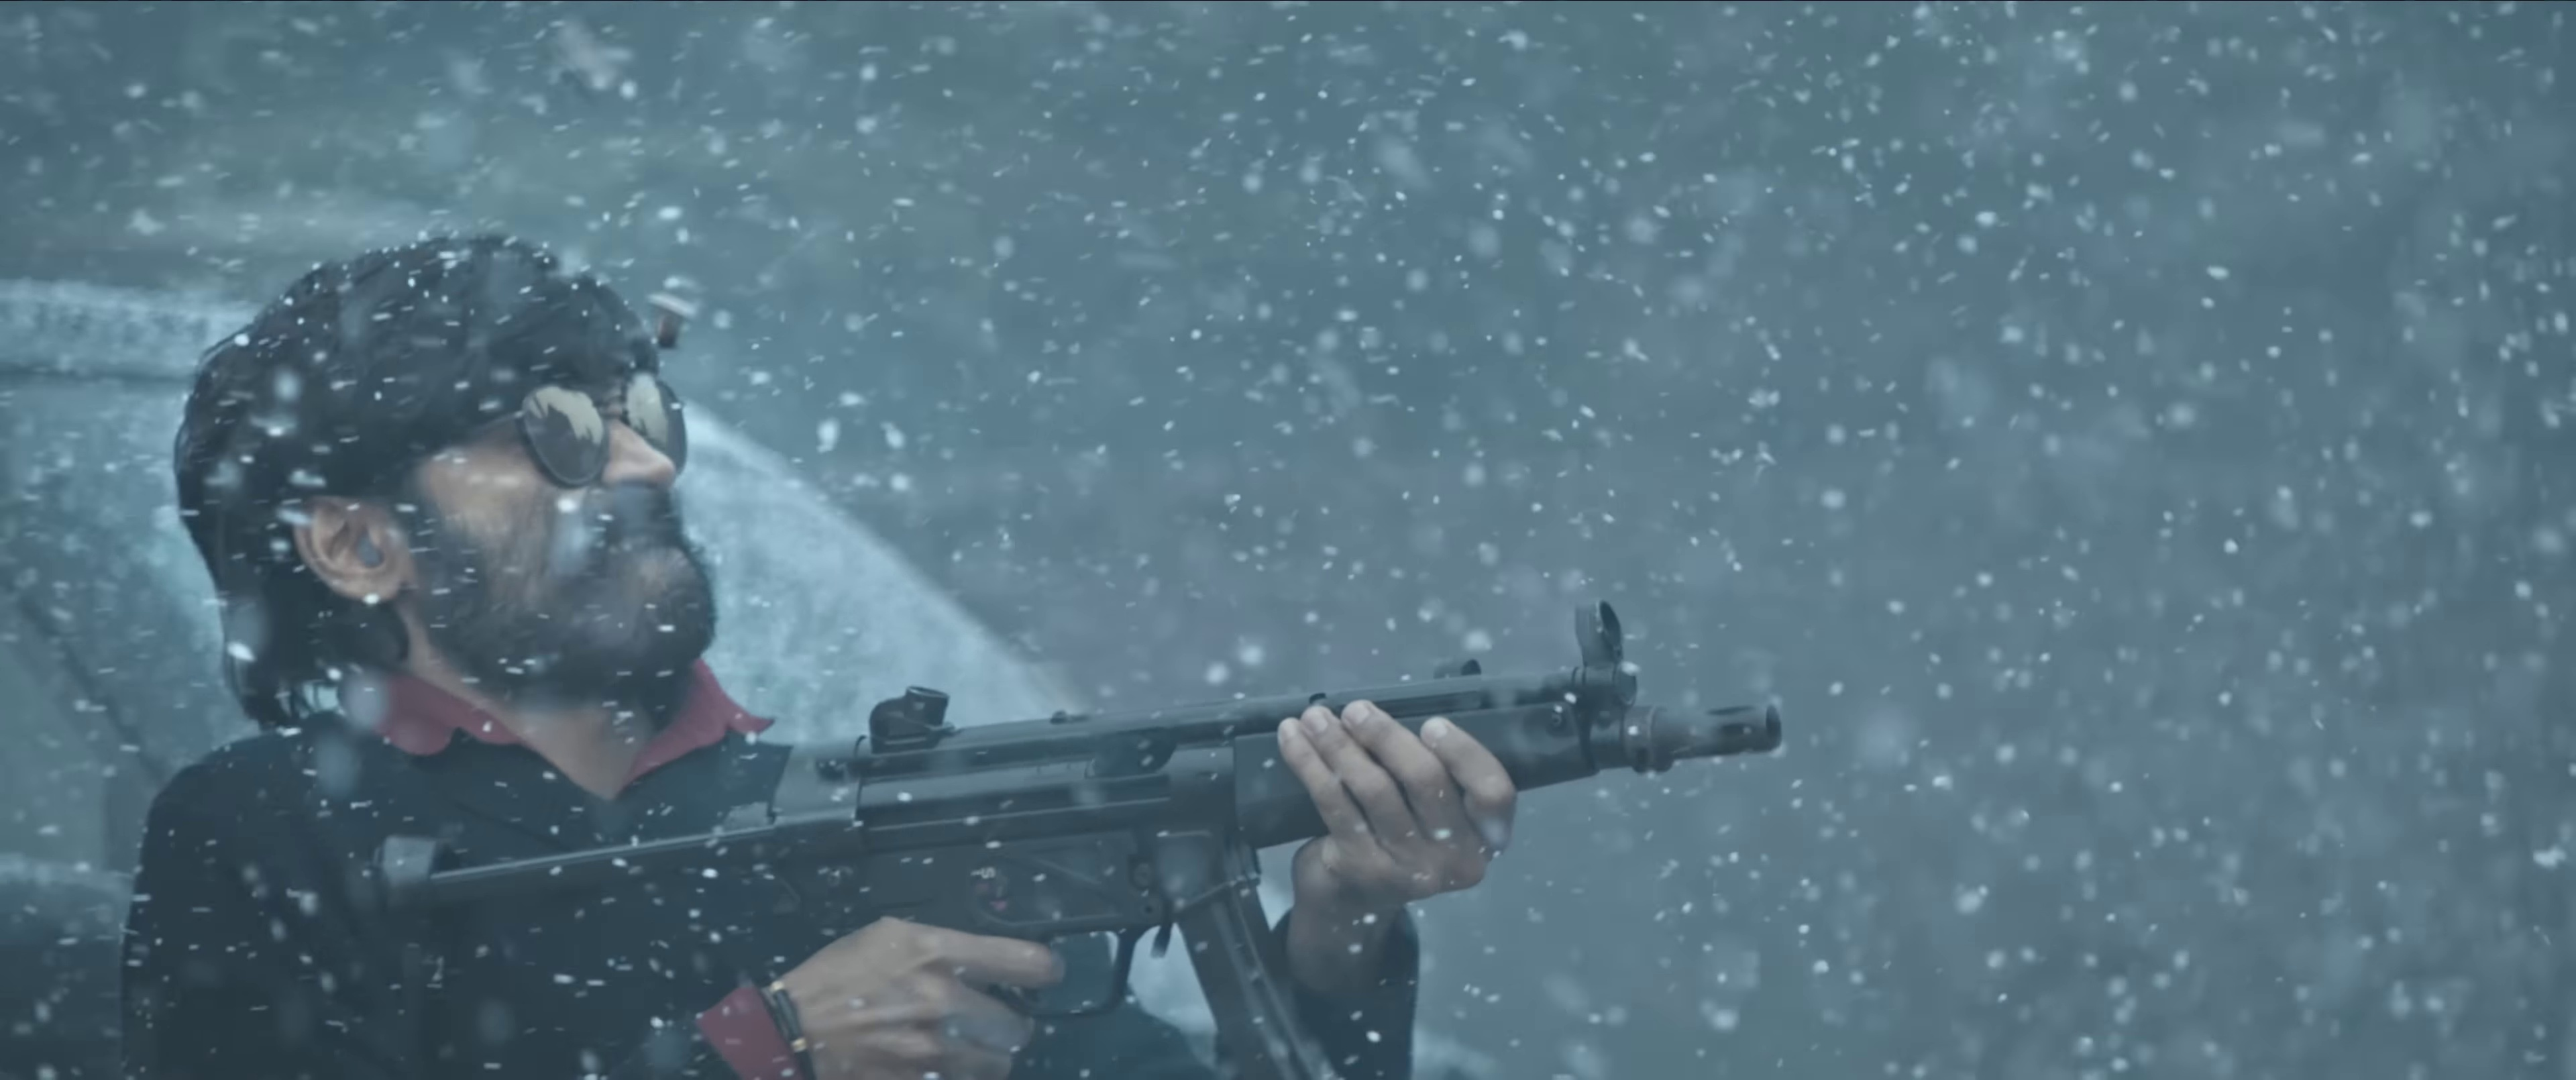gun: (348, 593, 1787, 1080)
p_w_gun: (113, 222, 1787, 1080)
